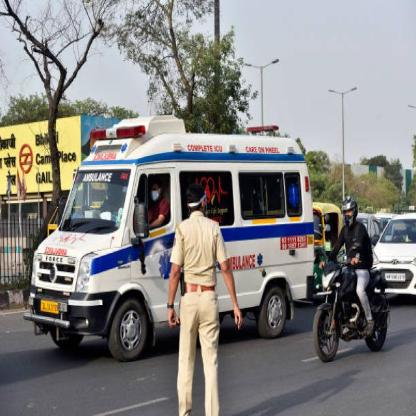priority: (77, 116, 148, 172), (34, 223, 94, 278), (201, 172, 229, 204), (230, 250, 257, 274), (156, 249, 174, 282), (246, 124, 280, 138), (243, 146, 281, 156), (184, 144, 222, 154)
